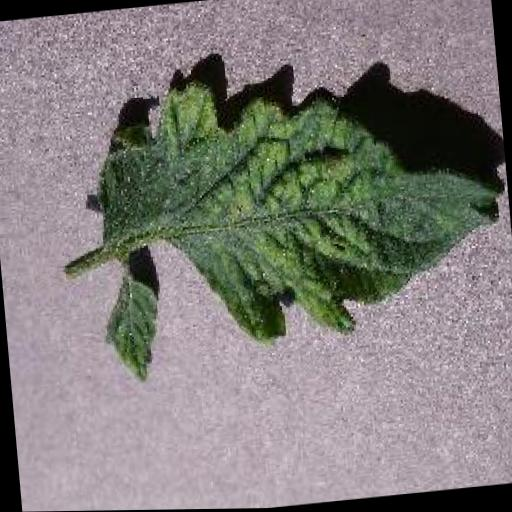Mosaic Virus: (79, 49, 512, 383)
